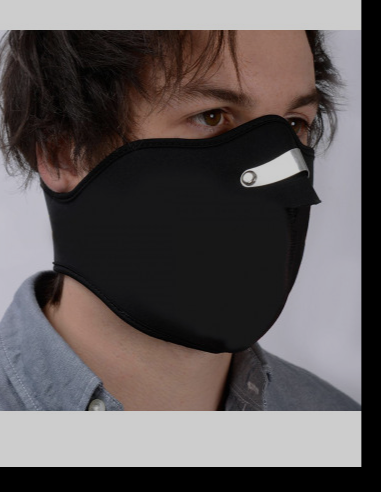with_mask: (79, 75, 320, 357)
